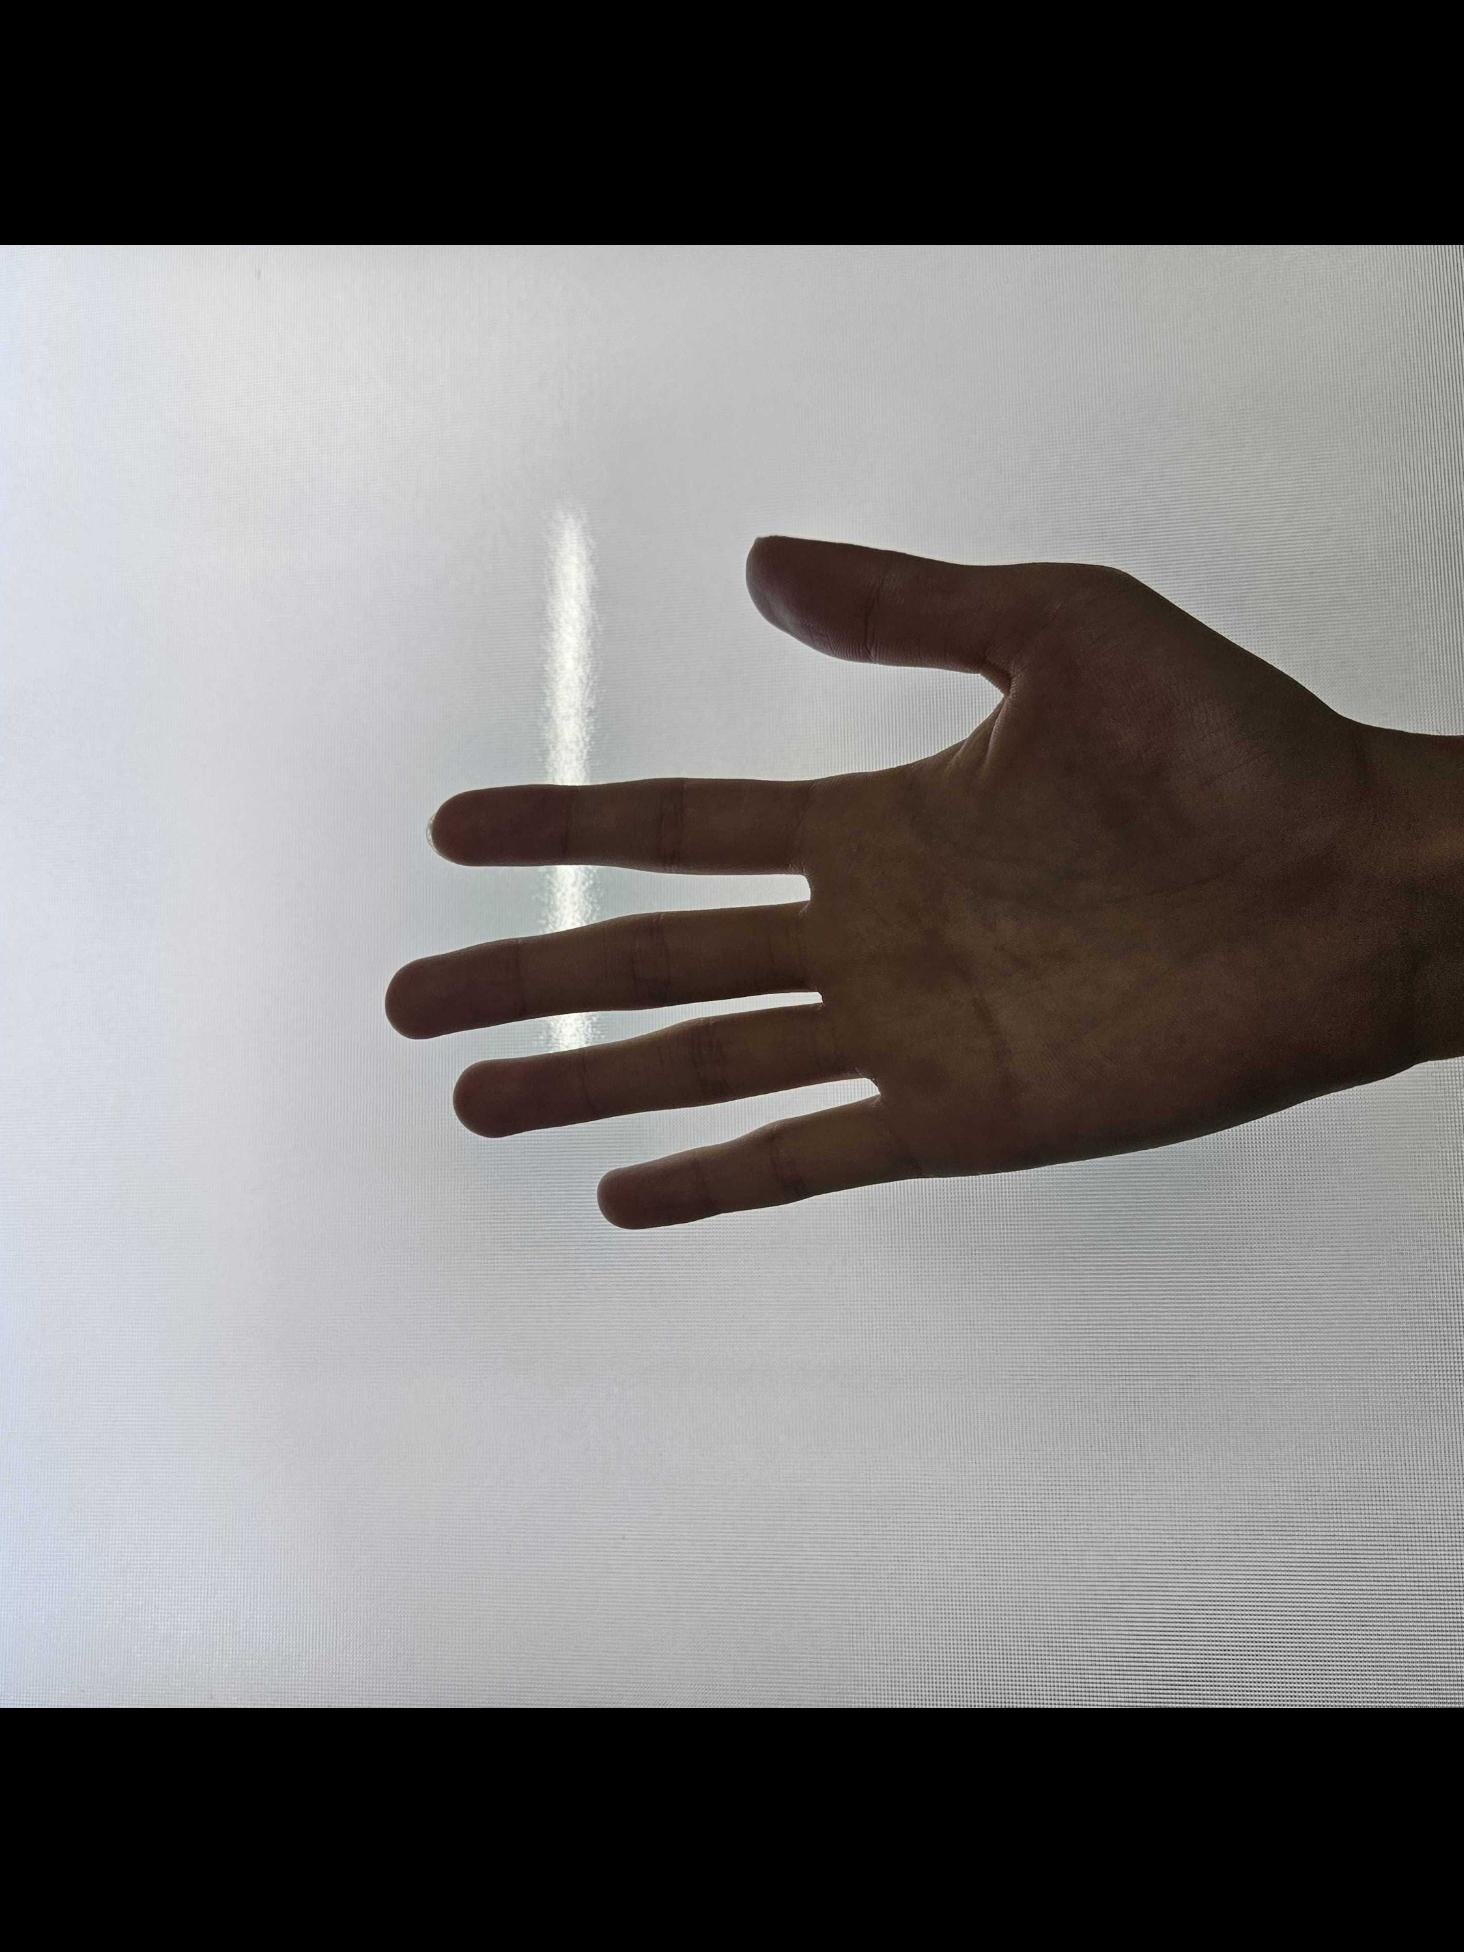open: (368, 540, 1426, 1243)
